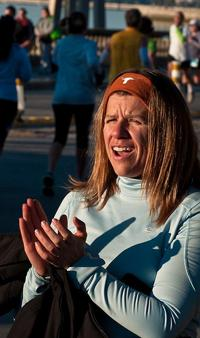person: (17, 62, 200, 336)
